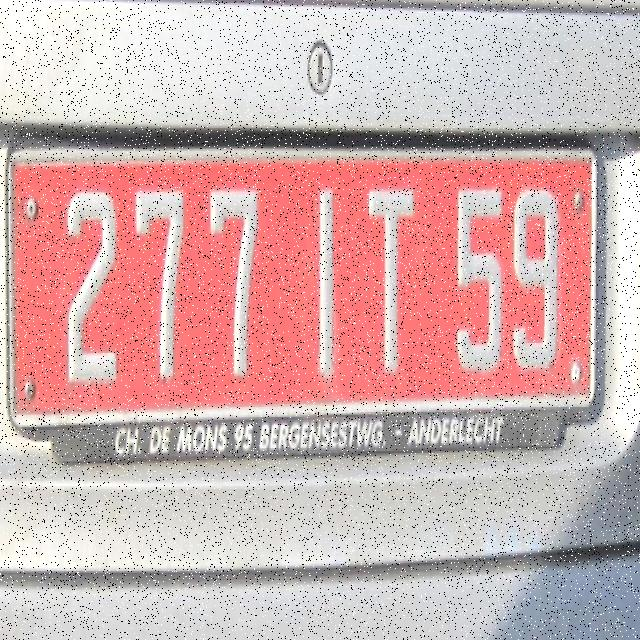licenseplate: (4, 100, 613, 502)
